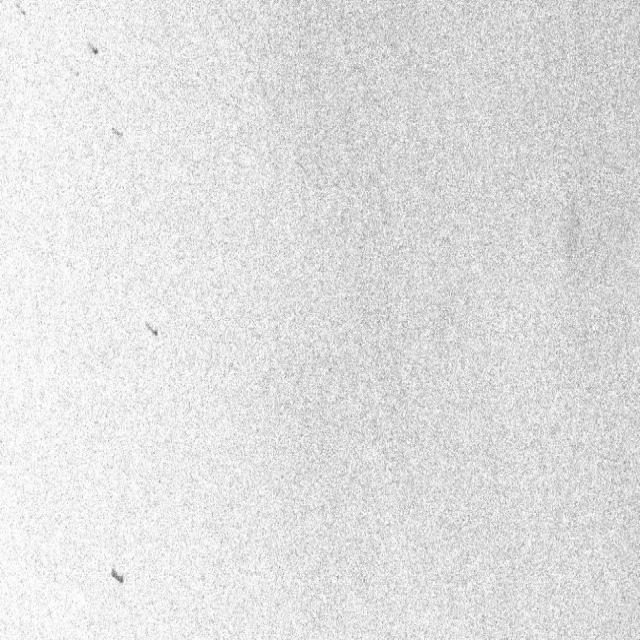oil-spill: (107, 113, 130, 151), (106, 554, 129, 592), (81, 32, 104, 61), (142, 311, 161, 342), (13, 0, 29, 20)
